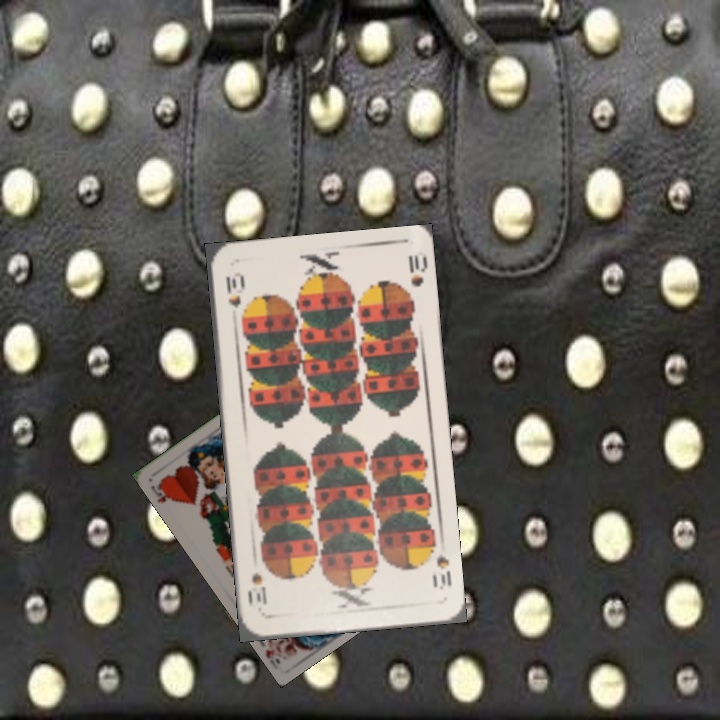HO: (146, 477, 177, 505)
S10: (428, 551, 454, 593), (221, 272, 244, 310)
